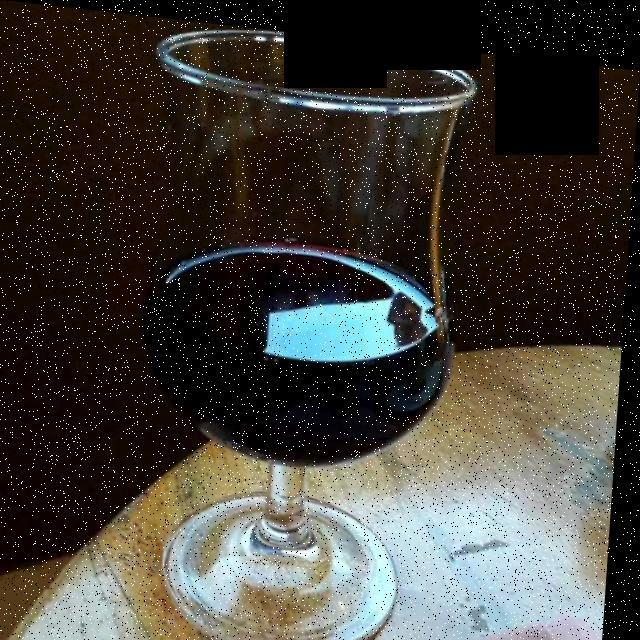wine: (157, 231, 456, 475)
